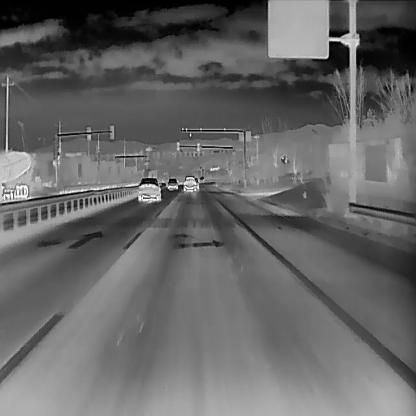car: (137, 176, 161, 202), (182, 176, 196, 190), (166, 177, 178, 190)
truck: (0, 149, 35, 200)
